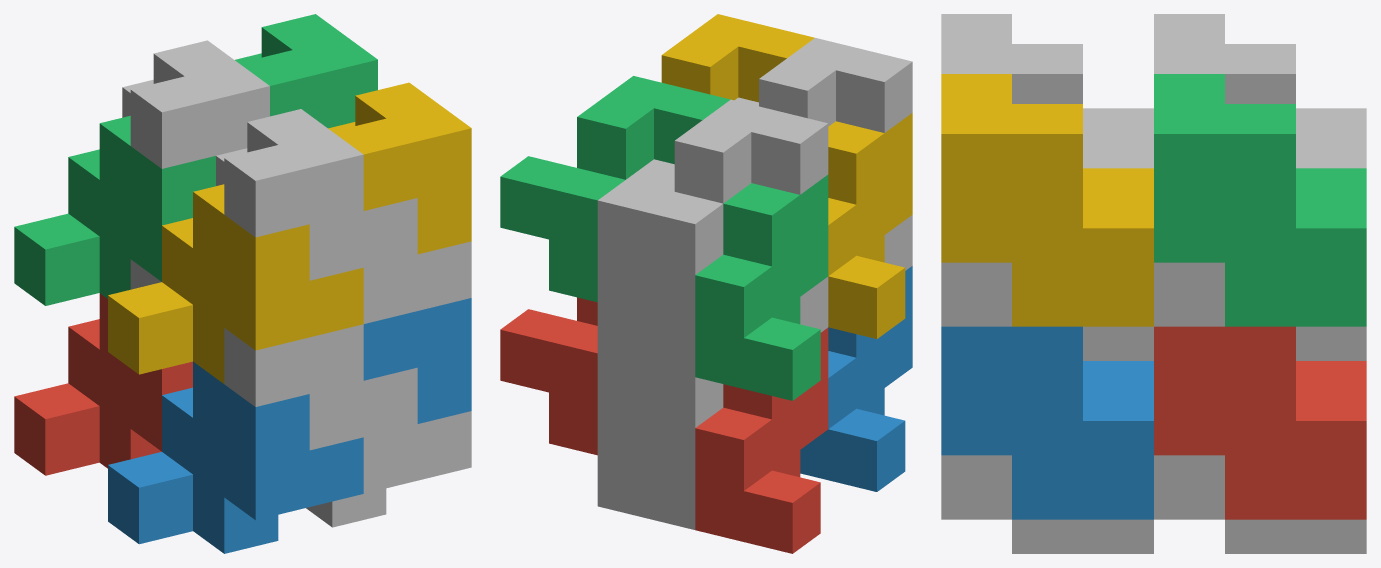
The model's file is tiling.obj.
3 renders of one model, left to right at view 1: azimuth 30°, elevation 25°; view 2: azimuth 150°, elevation 25°; view 3: azimuth 270°, elevation 25°, orthographic. The views are drawn at different scales.
Visible parts, largest first — view 1: copy_1_domain_2, copy_1_domain_4, copy_1_domain_3, copy_2_domain_4, copy_1_domain_1, copy_2_domain_8, copy_2_domain_3, copy_1_domain_6, copy_2_domain_2, copy_2_domain_7, copy_2_domain_6, copy_1_domain_8; view 2: copy_2_domain_3, copy_1_domain_3, copy_2_domain_7, copy_1_domain_1, copy_1_domain_4, copy_1_domain_2, copy_2_domain_4, copy_2_domain_5, copy_2_domain_1, copy_1_domain_7, copy_2_domain_8, copy_1_domain_5 (+1 smaller); view 3: copy_2_domain_7, copy_2_domain_8, copy_2_domain_5, copy_2_domain_6, copy_2_domain_3, copy_2_domain_4, copy_1_domain_5, copy_1_domain_6, copy_1_domain_7, copy_1_domain_8.
Part boxes in pixels (bbox=[...]): copy_1_domain_2: bbox=[108, 361, 363, 553]; copy_1_domain_4: bbox=[108, 184, 363, 383]; copy_1_domain_3: bbox=[14, 115, 215, 305]; copy_2_domain_4: bbox=[216, 109, 363, 280]; copy_1_domain_1: bbox=[14, 293, 192, 475]; copy_2_domain_8: bbox=[328, 82, 471, 254]; copy_2_domain_3: bbox=[122, 40, 269, 168]; copy_1_domain_6: bbox=[306, 367, 471, 527]; copy_2_domain_2: bbox=[224, 324, 363, 450]; copy_2_domain_7: bbox=[235, 14, 377, 128]; copy_2_domain_6: bbox=[363, 298, 471, 423]; copy_1_domain_8: bbox=[363, 198, 471, 323]; copy_2_domain_3: bbox=[597, 99, 828, 325]; copy_1_domain_3: bbox=[695, 174, 828, 400]; copy_2_domain_7: bbox=[500, 76, 730, 302]; copy_1_domain_1: bbox=[695, 327, 828, 553]; copy_1_domain_4: bbox=[828, 113, 912, 338]; copy_1_domain_2: bbox=[800, 266, 912, 491]; copy_2_domain_4: bbox=[759, 38, 912, 132]; copy_2_domain_5: bbox=[500, 297, 597, 455]; copy_2_domain_1: bbox=[597, 276, 828, 478]; copy_1_domain_7: bbox=[597, 159, 695, 376]; copy_2_domain_8: bbox=[661, 14, 814, 102]; copy_1_domain_5: bbox=[597, 404, 695, 529]; copy_2_domain_7: bbox=[1154, 74, 1366, 326]; copy_2_domain_8: bbox=[941, 74, 1153, 326]; copy_2_domain_5: bbox=[1154, 326, 1366, 519]; copy_2_domain_6: bbox=[941, 326, 1153, 519]; copy_2_domain_3: bbox=[1154, 14, 1366, 168]; copy_2_domain_4: bbox=[941, 14, 1153, 168]; copy_1_domain_5: bbox=[1154, 455, 1366, 553]; copy_1_domain_6: bbox=[941, 455, 1153, 553]; copy_1_domain_7: bbox=[1154, 262, 1366, 360]; copy_1_domain_8: bbox=[941, 262, 1153, 360].
Bounding box in the file's own units: 6 × 7 × 6.
